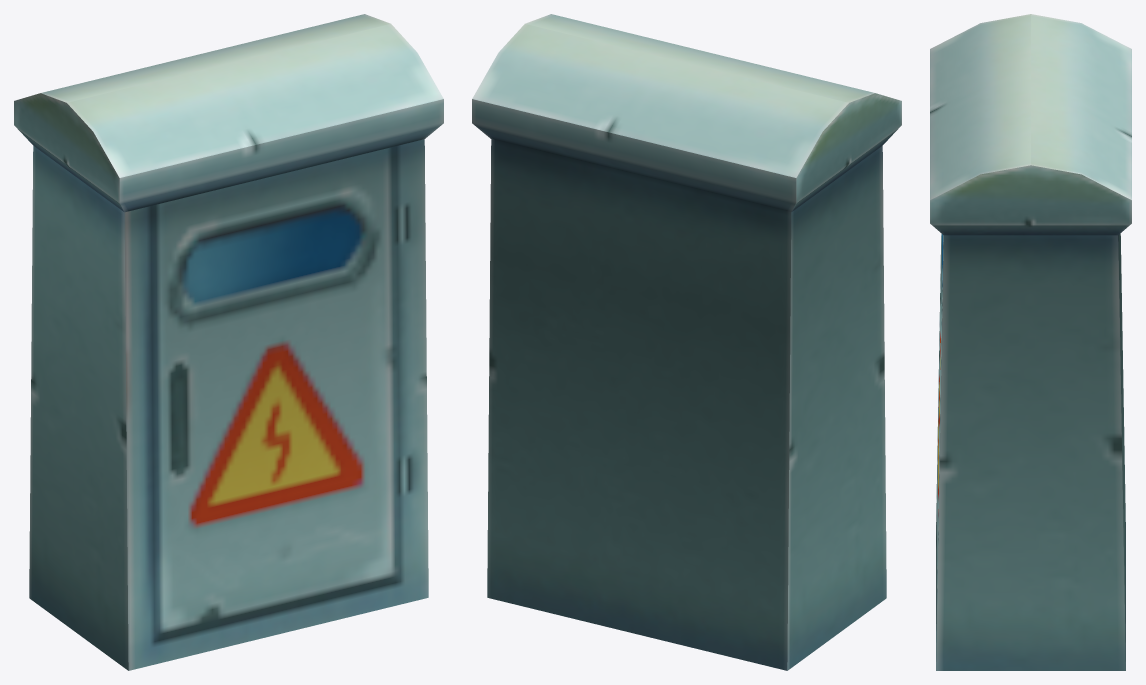
The model's file is PK_model_Electric.FBX.
3 renders of one model, left to right at view 1: azimuth 30°, elevation 25°; view 2: azimuth 150°, elevation 25°; view 3: azimuth 270°, elevation 25°, orthographic. The views are drawn at different scales.
Parts seen in each view (by area): view 1: PK_model_Electric; view 2: PK_model_Electric; view 3: PK_model_Electric.
Part boxes in pixels (x1,y1,x2,y2): PK_model_Electric: [14, 14, 443, 670]; PK_model_Electric: [472, 14, 901, 670]; PK_model_Electric: [930, 14, 1131, 670].
Bounding box in the file's own units: 58.97 × 92.92 × 33.24.
